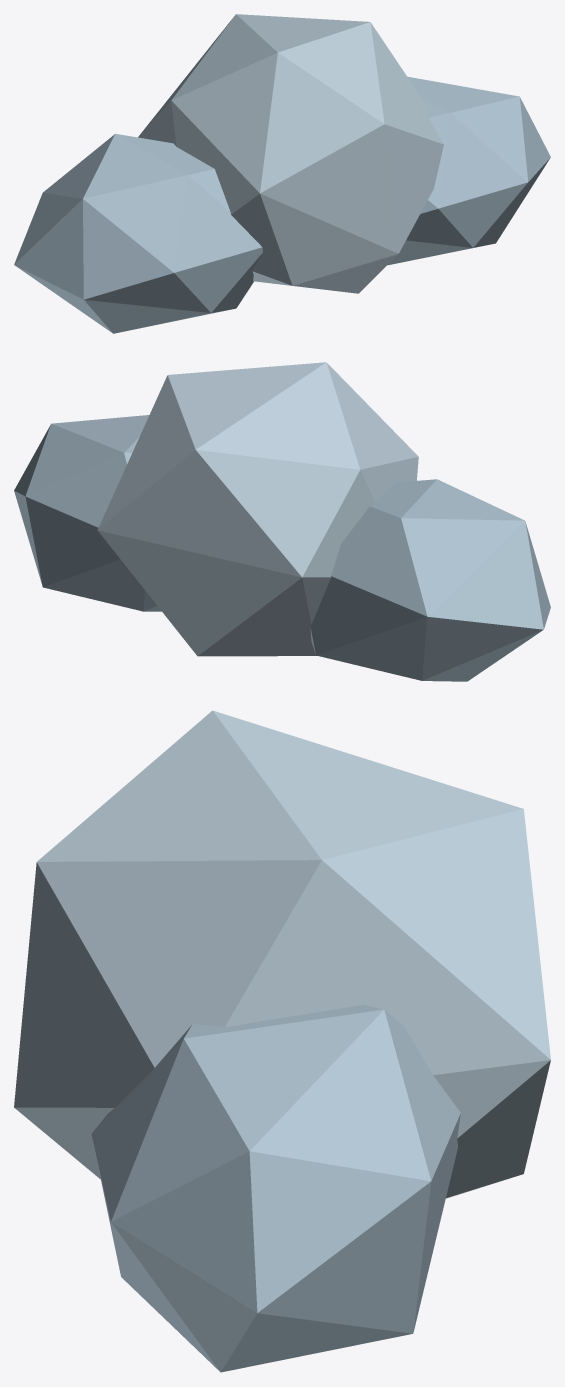
Rendered from small_cloud_35.fbx.
The picture shows the model from 3 angles, top to bottom: view 1: azimuth 30°, elevation 25°; view 2: azimuth 150°, elevation 25°; view 3: azimuth 270°, elevation 25°; orthographic projection. The views are drawn at different scales.
Visible parts, largest first — view 1: cloud_5; view 2: cloud_5; view 3: cloud_5.
Boxes of the visible parts, x1,y1,x2,y2 form: cloud_5: [14, 14, 550, 333]; cloud_5: [14, 362, 550, 681]; cloud_5: [14, 710, 550, 1372].
Size of the model in its own units: 431 by 206 by 206.
